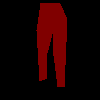abbigliamento_uomo: (36, 3, 67, 87)
